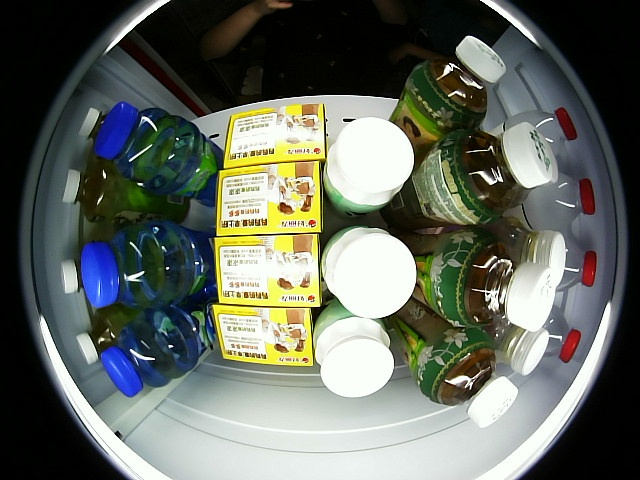asamu_xiaoye: (324, 118, 413, 218), (312, 290, 394, 398), (321, 225, 415, 318)
haoliyou_danpai: (210, 234, 323, 309), (215, 161, 322, 236), (221, 102, 327, 169), (212, 305, 317, 367)
maidong_qingning: (93, 102, 224, 208), (99, 287, 219, 397), (81, 221, 217, 307)
moliqingcha: (380, 295, 518, 428), (381, 122, 552, 226), (393, 228, 555, 329), (388, 35, 506, 170)
nongfushanquan: (503, 170, 595, 231), (492, 107, 577, 157), (554, 230, 597, 290), (539, 304, 580, 365)
shuiputao: (486, 217, 566, 289), (492, 322, 550, 376), (510, 152, 560, 209)
tianwo_fengmiyouzi: (62, 159, 190, 225), (77, 303, 145, 365), (77, 108, 108, 140), (62, 258, 84, 292)
